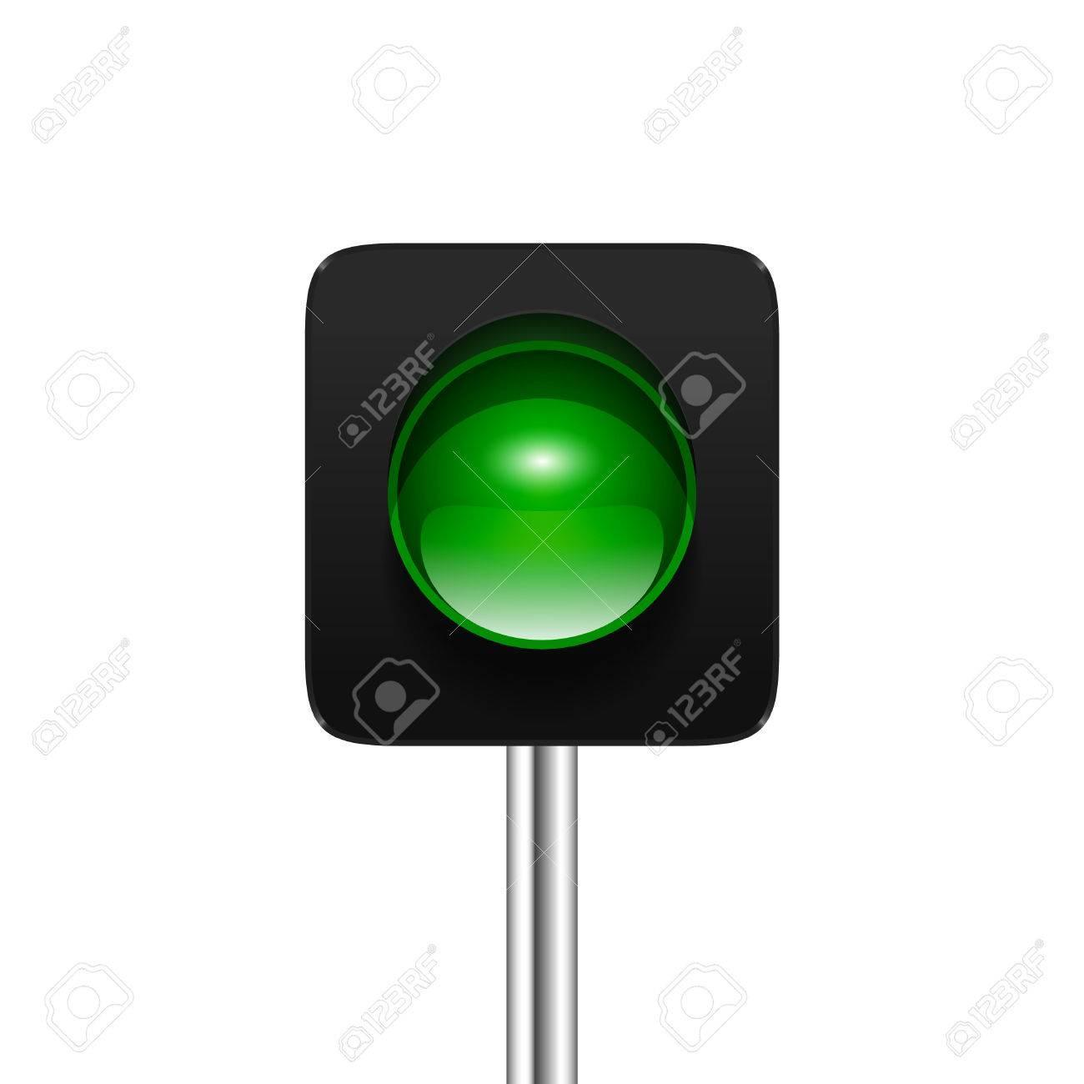green: (256, 214, 862, 842)
